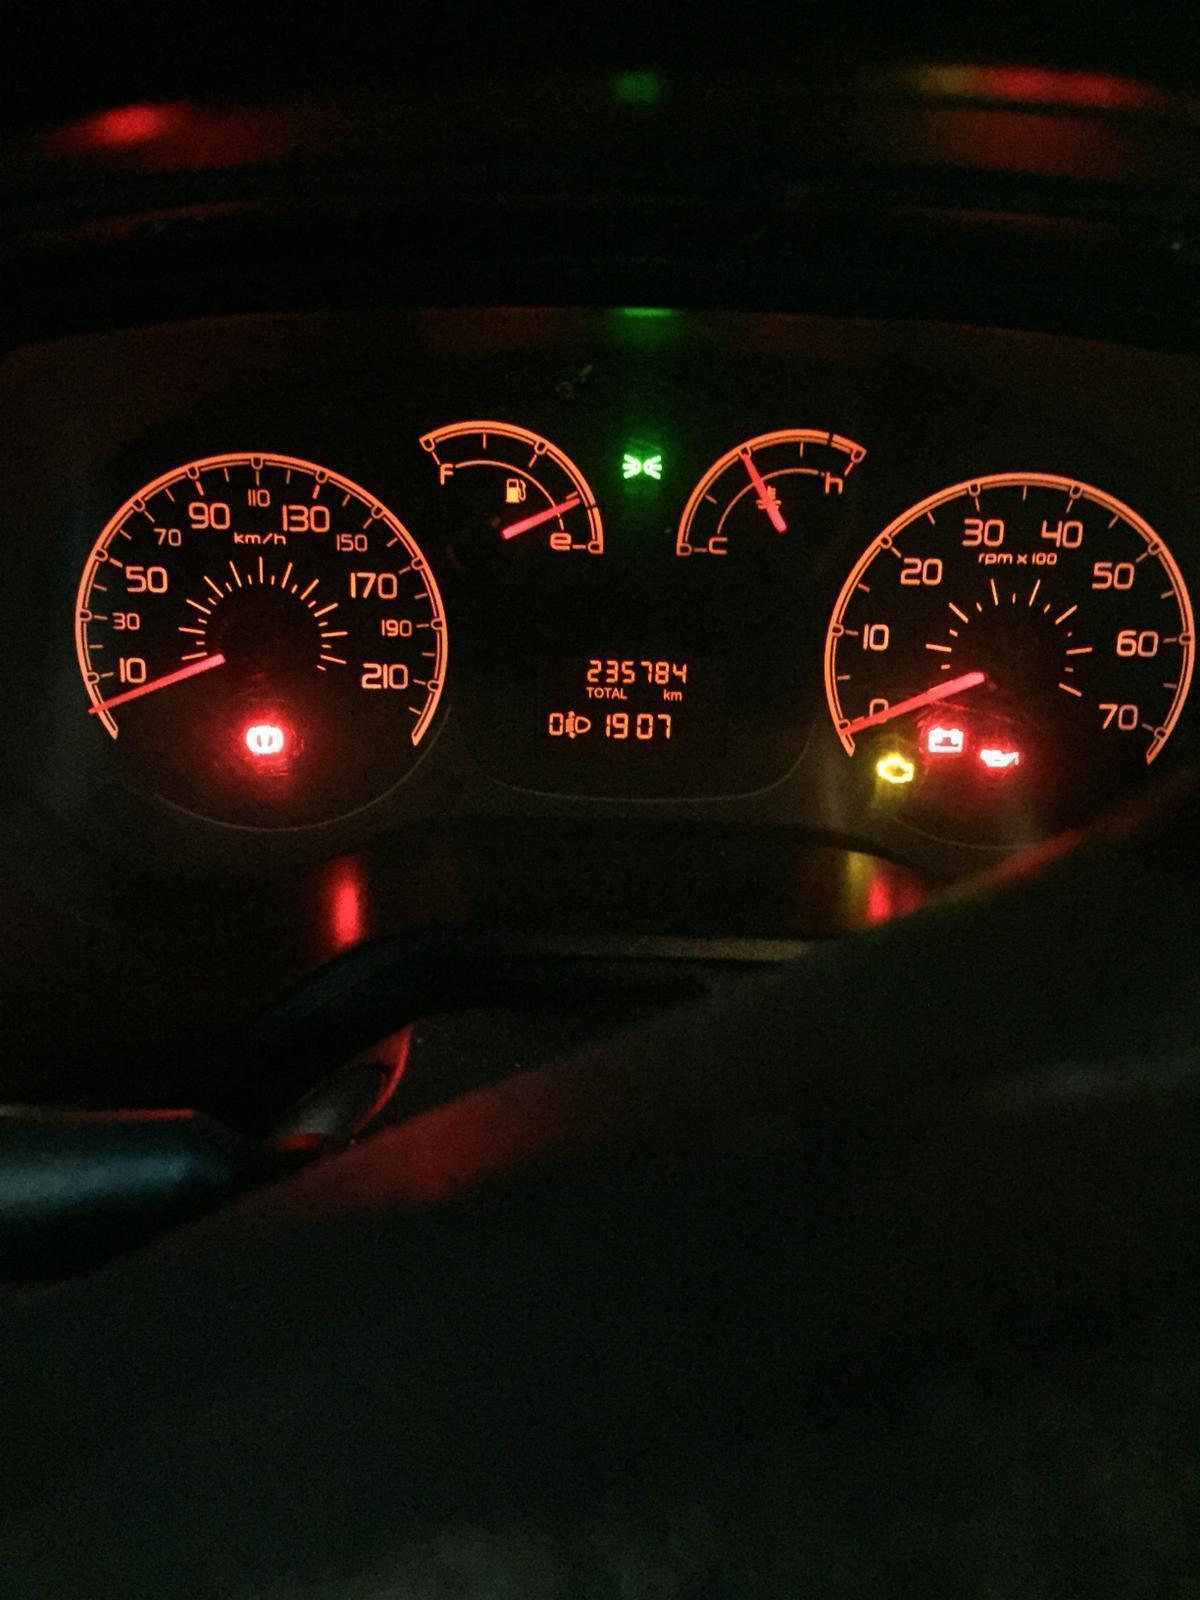0: (637, 711, 653, 740), (548, 712, 563, 736)
1: (606, 713, 611, 738)
2: (586, 659, 601, 683)
3: (604, 659, 618, 682)
4: (671, 661, 688, 684)
5: (621, 658, 635, 683)
7: (657, 711, 672, 741), (639, 659, 652, 683)
8: (655, 661, 669, 685)
9: (613, 712, 629, 740)
X: (671, 690, 682, 700), (594, 687, 603, 699), (663, 687, 671, 700), (603, 687, 611, 698), (613, 687, 620, 699), (620, 687, 626, 700), (586, 685, 592, 699)
odometer: (531, 645, 706, 753)
